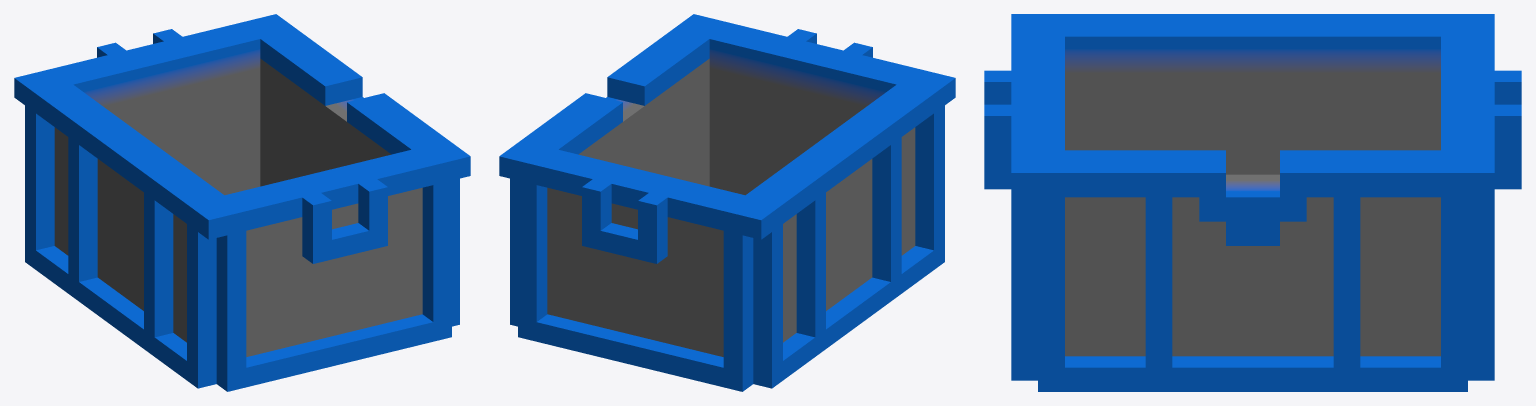
File: Matrix_4.obj
The picture shows the model from 3 angles, left to right: view 1: azimuth 30°, elevation 25°; view 2: azimuth 150°, elevation 25°; view 3: azimuth 270°, elevation 25°; orthographic projection. The views are drawn at different scales.
Visible parts, largest first — view 1: Matrix_4; view 2: Matrix_4; view 3: Matrix_4.
Part boxes in pixels (bbox=[...]): Matrix_4: bbox=[14, 14, 470, 391]; Matrix_4: bbox=[499, 14, 955, 391]; Matrix_4: bbox=[984, 14, 1521, 391].
Bounding box in the file's own units: 14 × 9 × 20.
1 material, 1 textured.
